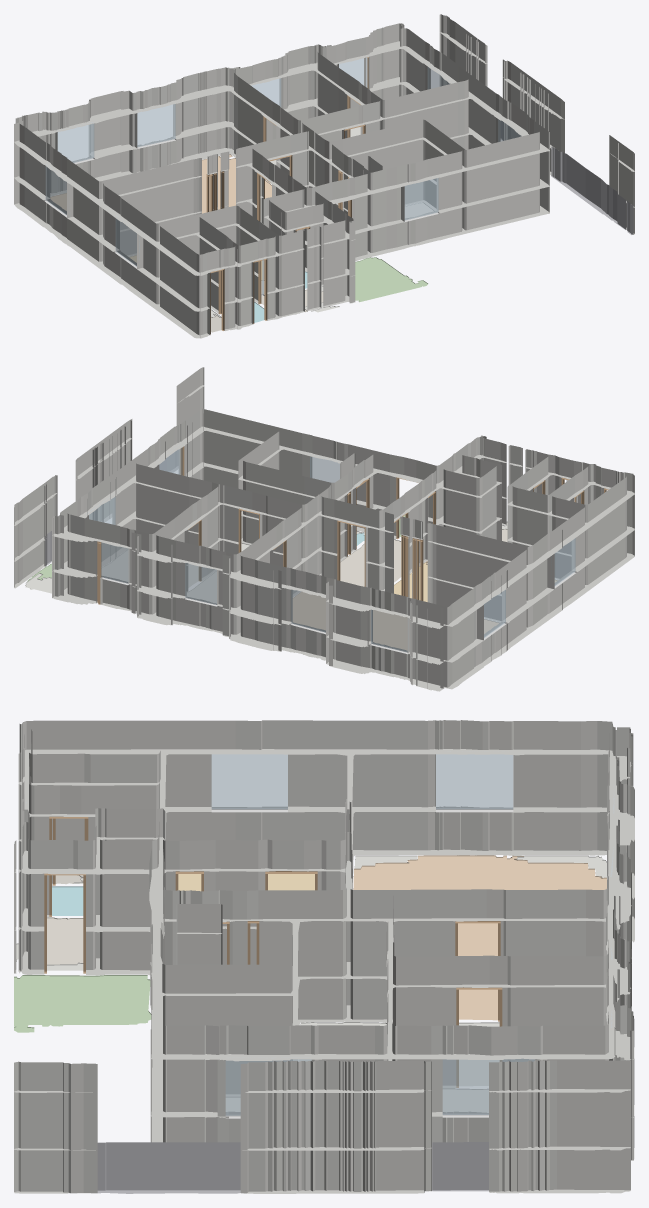
The picture shows the model from 3 angles, top to bottom: view 1: azimuth 30°, elevation 25°; view 2: azimuth 150°, elevation 25°; view 3: azimuth 270°, elevation 25°; orthographic projection. The views are drawn at different scales.
Visible parts, largest first — view 1: walls, railings, floor_0_Outdoor, window_23, window_30, window_22, floor_4_Living_Room, window_29, window_27, window_25, window_24; view 2: walls, floor_4_Living_Room, window_22, window_23, window_24, floor_9_Entry, window_25, window_29, window_27, floor_19_Undefined, window_30, floor_20_Undefined (+3 smaller); view 3: walls, railings, floor_4_Living_Room, floor_0_Outdoor, window_27, window_29, window_26, floor_8_Entry, floor_2_Kitchen, floor_19_Undefined, window_28, floor_20_Undefined (+3 smaller).
Part boxes in pixels (x1=…): walls: x1=14, y1=14, x2=634, y2=338; railings: x1=501, y1=121, x2=633, y2=234; floor_0_Outdoor: x1=355, y1=257, x2=427, y2=302; window_23: x1=137, y1=104, x2=175, y2=146; window_30: x1=404, y1=178, x2=438, y2=220; window_22: x1=57, y1=122, x2=94, y2=162; floor_4_Living_Room: x1=50, y1=154, x2=271, y2=213; window_29: x1=115, y1=215, x2=139, y2=266; window_27: x1=45, y1=164, x2=66, y2=215; window_25: x1=339, y1=57, x2=367, y2=87; window_24: x1=251, y1=78, x2=281, y2=106; walls: x1=14, y1=367, x2=634, y2=691; floor_4_Living_Room: x1=293, y1=592, x2=498, y2=650; window_22: x1=371, y1=609, x2=407, y2=651; window_23: x1=291, y1=590, x2=325, y2=632; window_24: x1=185, y1=563, x2=216, y2=604; floor_9_Entry: x1=340, y1=539, x2=401, y2=586; window_25: x1=101, y1=542, x2=128, y2=583; window_29: x1=551, y1=538, x2=575, y2=585; window_27: x1=484, y1=590, x2=505, y2=637; floor_19_Undefined: x1=101, y1=550, x2=198, y2=587; window_30: x1=310, y1=455, x2=339, y2=482; floor_20_Undefined: x1=187, y1=571, x2=216, y2=603; walls: x1=14, y1=720, x2=634, y2=1193; railings: x1=97, y1=1142, x2=488, y2=1193; floor_4_Living_Room: x1=353, y1=855, x2=606, y2=1020; floor_0_Outdoor: x1=14, y1=975, x2=151, y2=1032; window_27: x1=436, y1=751, x2=513, y2=809; window_29: x1=211, y1=754, x2=287, y2=809; window_26: x1=442, y1=1058, x2=534, y2=1114; floor_8_Entry: x1=47, y1=917, x2=83, y2=964; floor_2_Kitchen: x1=178, y1=874, x2=314, y2=891; floor_19_Undefined: x1=443, y1=1088, x2=488, y2=1112; window_28: x1=225, y1=1059, x2=311, y2=1115; floor_20_Undefined: x1=459, y1=1022, x2=499, y2=1085.
Bounding box in the file's own units: 15.39 × 2.72 × 11.73.
